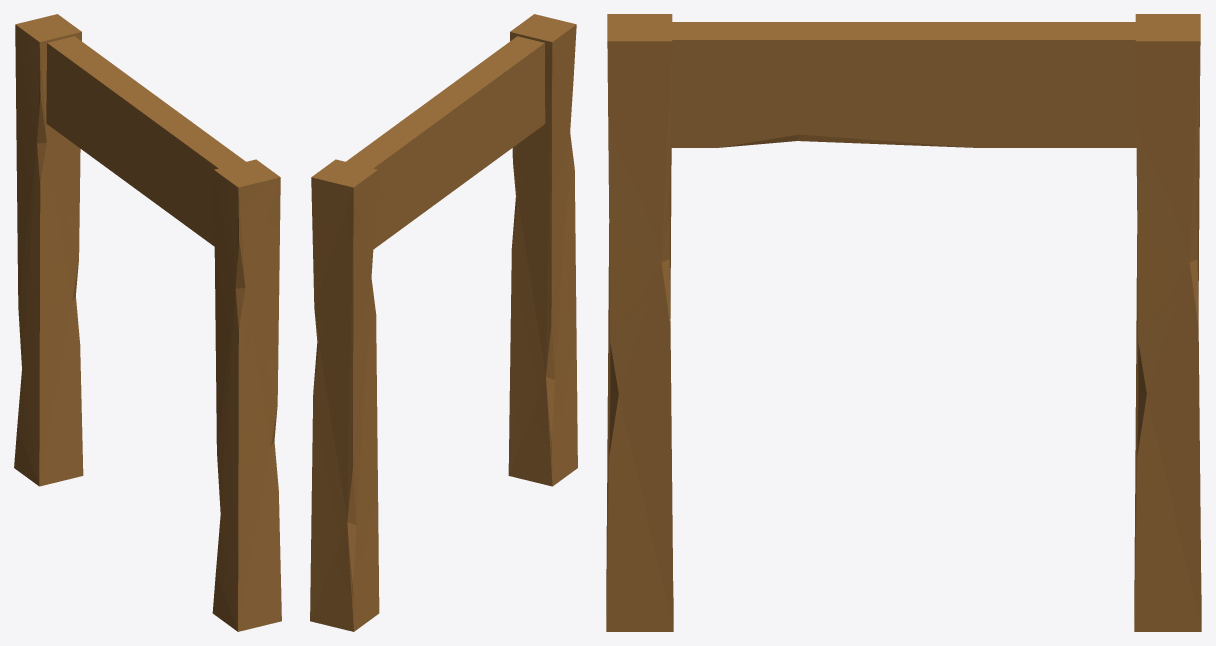
Rendered from beam.fbx.
3 views of the same model, side by side, from view 1: azimuth 30°, elevation 25°; view 2: azimuth 150°, elevation 25°; view 3: azimuth 270°, elevation 25° (orthographic). The views are drawn at different scales.
Parts seen in each view (by area): view 1: beam; view 2: beam; view 3: beam.
Part boxes in pixels (left/top/right/bottom): beam: left=14, top=14, right=281, bottom=631; beam: left=310, top=14, right=577, bottom=631; beam: left=606, top=14, right=1201, bottom=631.
Size of the model in its own units: 31.93 by 308 by 282.
